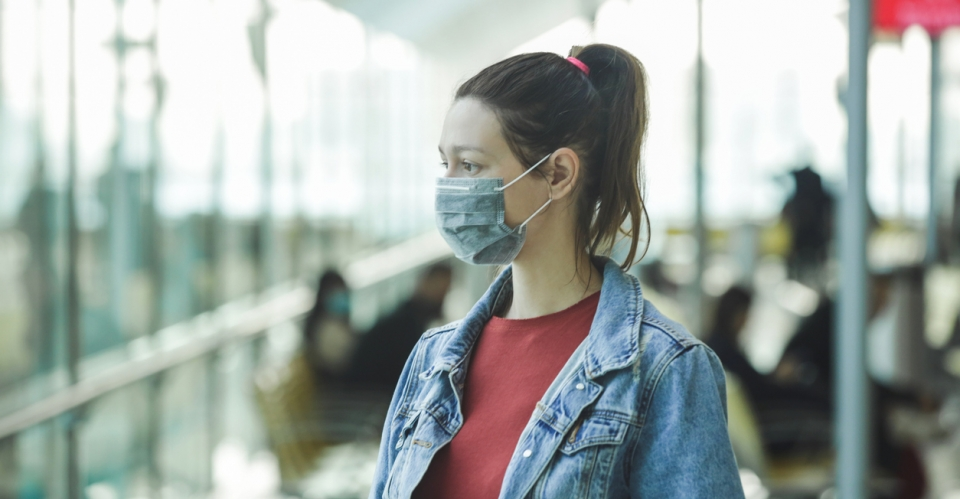mask: (425, 166, 547, 275)
